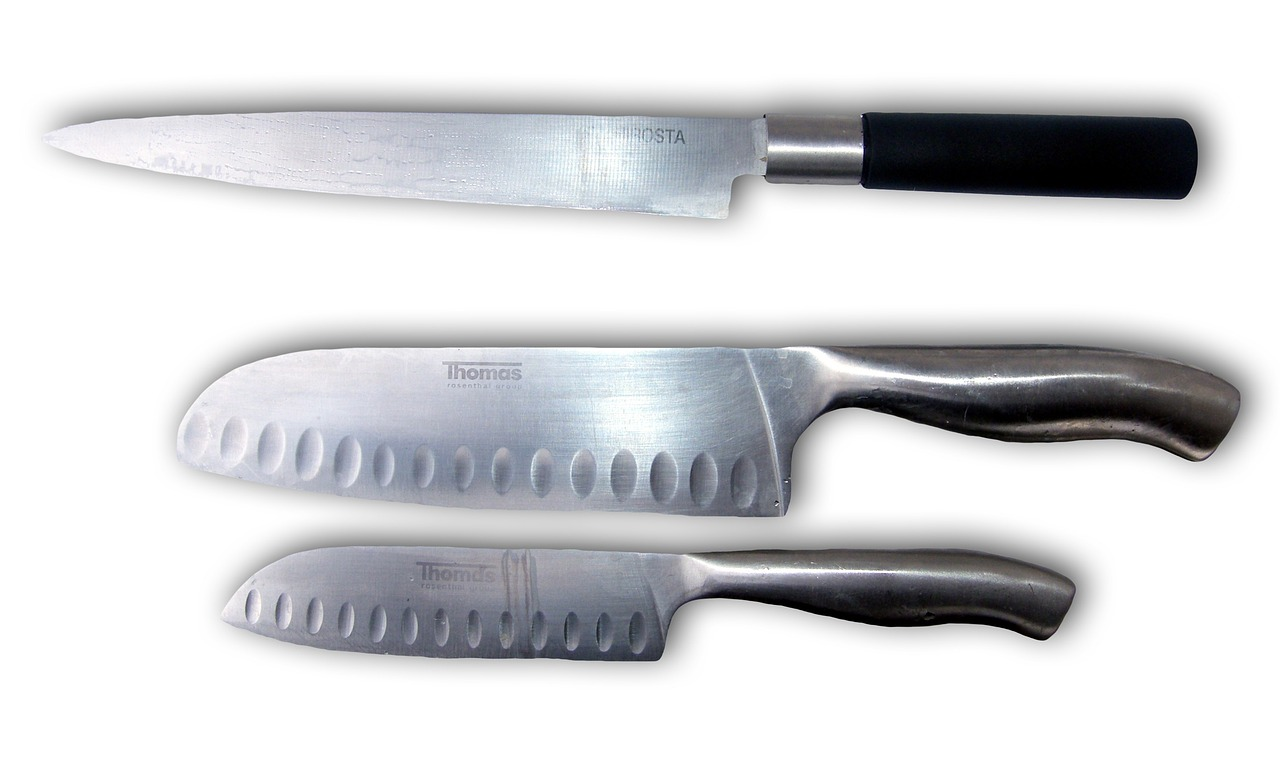knife: (125, 343, 1251, 518), (41, 98, 1212, 218), (202, 537, 1088, 659)
